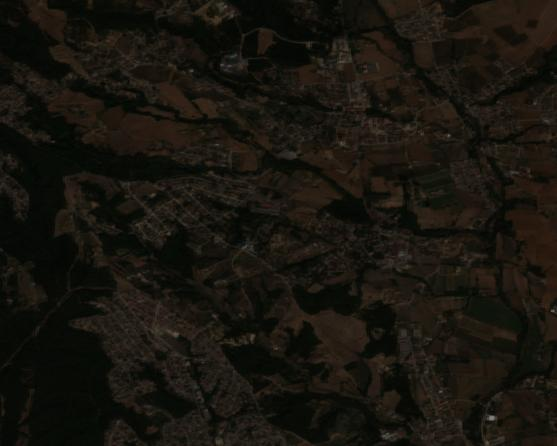Agricola: (0, 78, 238, 171), (413, 266, 540, 398), (492, 120, 557, 328), (450, 0, 557, 112)
Poblacion: (46, 175, 305, 446), (260, 33, 426, 168)
